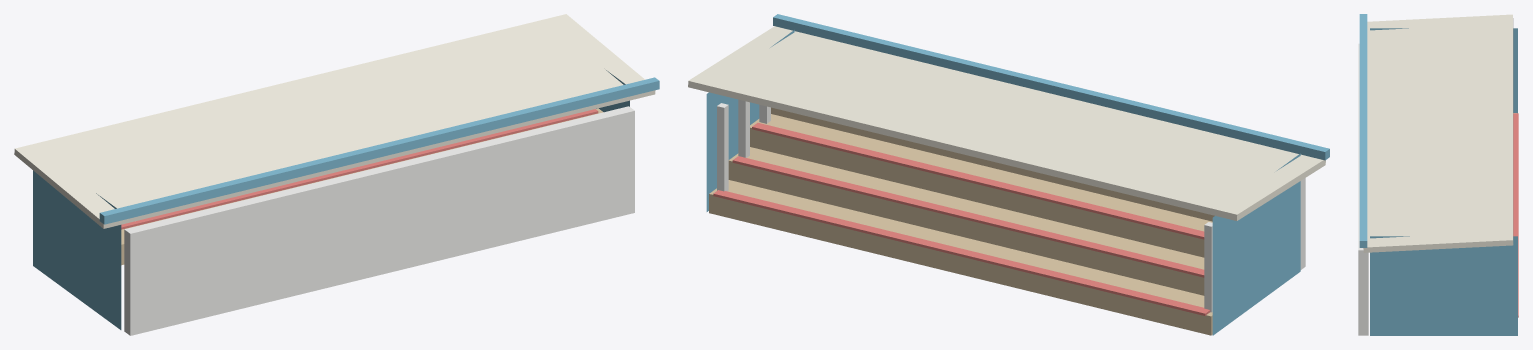
Rendered from grandstand.glb.
3 views of the same model, side by side, from view 1: azimuth 30°, elevation 25°; view 2: azimuth 150°, elevation 25°; view 3: azimuth 270°, elevation 25° (orthographic). The views are drawn at different scales.
Parts seen in each view (by area): view 1: grandstand; view 2: grandstand; view 3: grandstand.
Boxes of the visible parts, left/top/right/bottom form: grandstand: left=14, top=14, right=659, bottom=335; grandstand: left=688, top=14, right=1329, bottom=335; grandstand: left=1358, top=14, right=1518, bottom=335.
Bounding box in the file's own units: 16.5 × 3.57 × 4.93.
